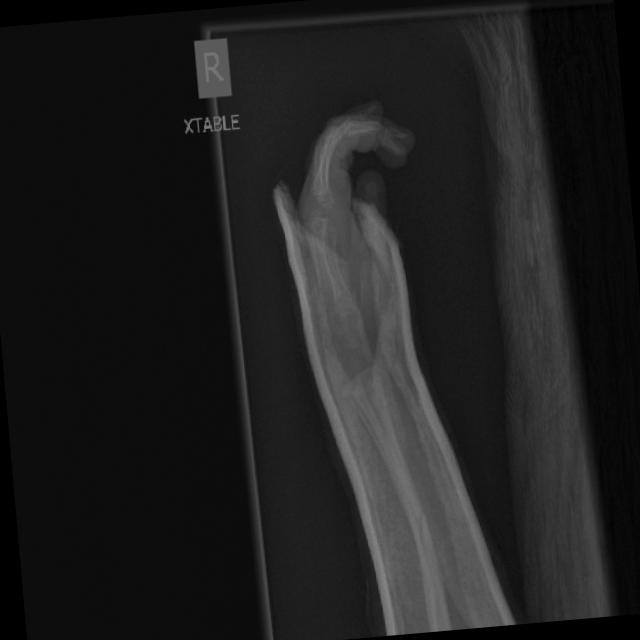forearm fracture: (400, 482, 469, 620)
